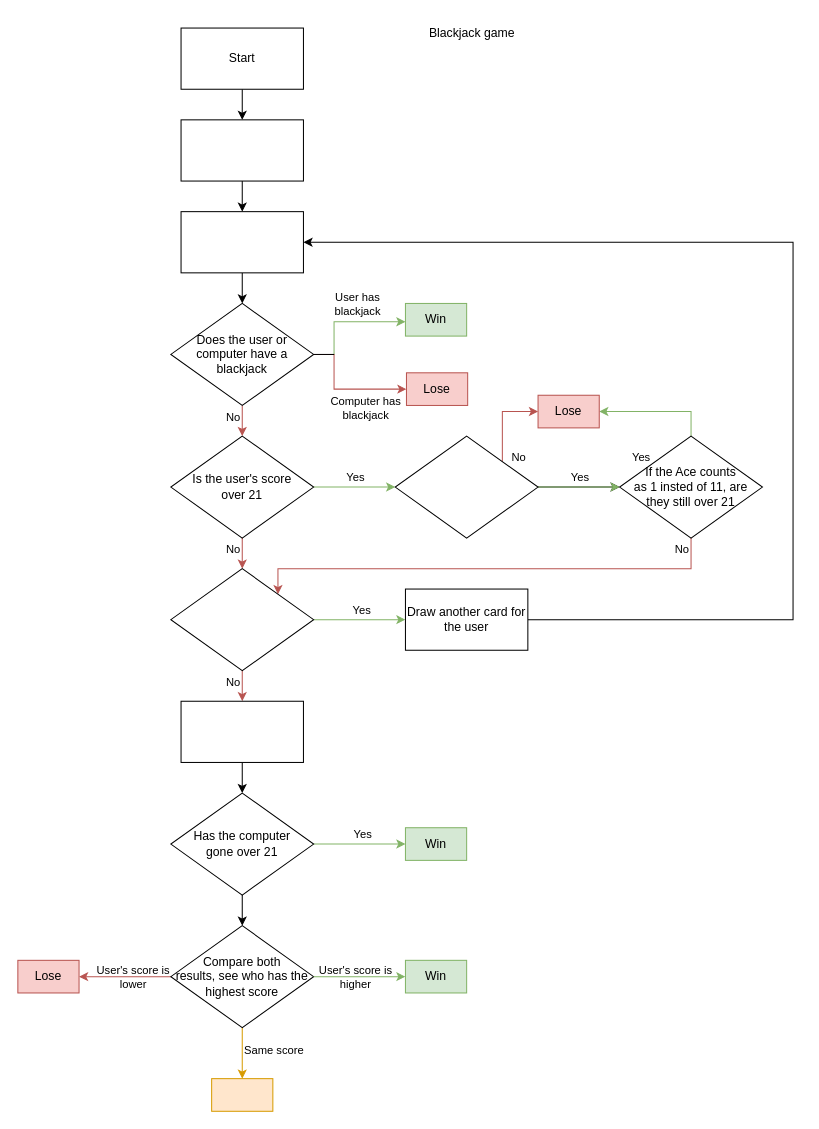
Image size: 819x1129. Some labels were removed from this diagram. The shapes that lost their labels are listed below. From the top down, each one's centre as x and y in pixels, then its label:
At point (241, 150): "Both the user and the computer should have 2 cards".
At point (241, 242): "Calculate both user's and computer's score".
At point (466, 486): "Do they have an Ace/11".
At point (242, 619): "Ask the user if they want to get another card".
At point (241, 731): "Computer turn, if score is less than 17, keep drawing cards".
At point (242, 1094): "Draw".
